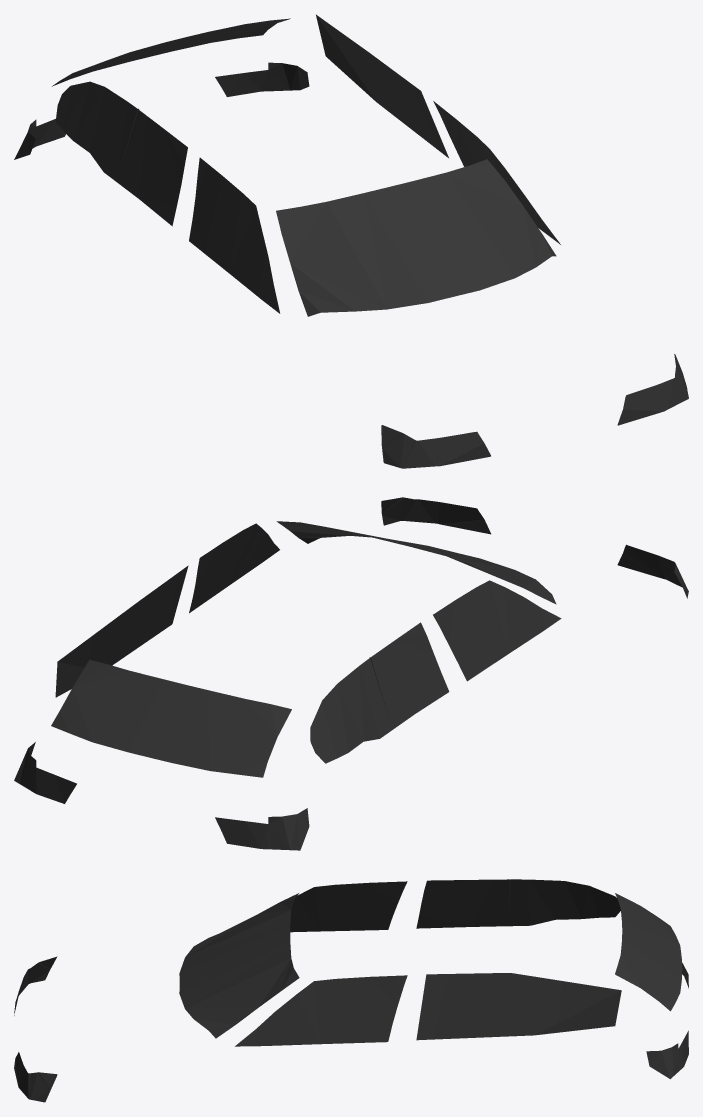
Rendered from LK4_glass_d2.obj.
3 views of the same model, one above another, from view 1: azimuth 30°, elevation 25°; view 2: azimuth 150°, elevation 25°; view 3: azimuth 270°, elevation 25° (orthographic). The views are drawn at different scales.
Visible parts, largest first — view 1: LK4_body.005, LK4_body.003, LK4_body.004, LK4_body.001, LK4_body.010, LK4_body.002, LK4_body.006, LK4_body.007, LK4_body.009, LK4_body.008; view 2: LK4_body.002, LK4_body.003, LK4_body.004, LK4_body.001, LK4_body.006, LK4_body.008, LK4_body.005, LK4_body.009, LK4_body.007, LK4_body.010; view 3: LK4_body.001, LK4_body.005, LK4_body.003, LK4_body.006, LK4_body.002, LK4_body.004, LK4_body.009, LK4_body.007, LK4_body.010.
Part boxes in pixels (bbox=[...]): LK4_body.005: bbox=[276, 159, 556, 316]; LK4_body.003: bbox=[55, 81, 187, 226]; LK4_body.004: bbox=[189, 157, 280, 313]; LK4_body.001: bbox=[316, 14, 448, 157]; LK4_body.010: bbox=[381, 425, 490, 468]; LK4_body.002: bbox=[52, 18, 290, 86]; LK4_body.006: bbox=[433, 101, 560, 244]; LK4_body.007: bbox=[215, 62, 309, 96]; LK4_body.009: bbox=[617, 354, 688, 425]; LK4_body.008: bbox=[14, 119, 65, 159]; LK4_body.002: bbox=[51, 660, 291, 777]; LK4_body.003: bbox=[310, 622, 449, 763]; LK4_body.004: bbox=[433, 580, 561, 681]; LK4_body.001: bbox=[55, 565, 188, 697]; LK4_body.006: bbox=[189, 523, 279, 613]; LK4_body.008: bbox=[215, 808, 309, 850]; LK4_body.005: bbox=[276, 521, 556, 604]; LK4_body.009: bbox=[381, 497, 490, 534]; LK4_body.007: bbox=[14, 742, 76, 803]; LK4_body.010: bbox=[617, 544, 688, 598]; LK4_body.001: bbox=[416, 973, 621, 1040]; LK4_body.005: bbox=[179, 893, 299, 1038]; LK4_body.003: bbox=[416, 879, 620, 928]; LK4_body.006: bbox=[235, 975, 407, 1046]; LK4_body.002: bbox=[615, 893, 682, 1011]; LK4_body.004: bbox=[290, 881, 407, 932]; LK4_body.009: bbox=[14, 1052, 57, 1102]; LK4_body.007: bbox=[646, 1030, 688, 1079]; LK4_body.010: bbox=[14, 956, 57, 1015].
Size of the model in its own units: 1.76 by 0.7798 by 4.11.
Materials: 1 (1 with a texture image).
